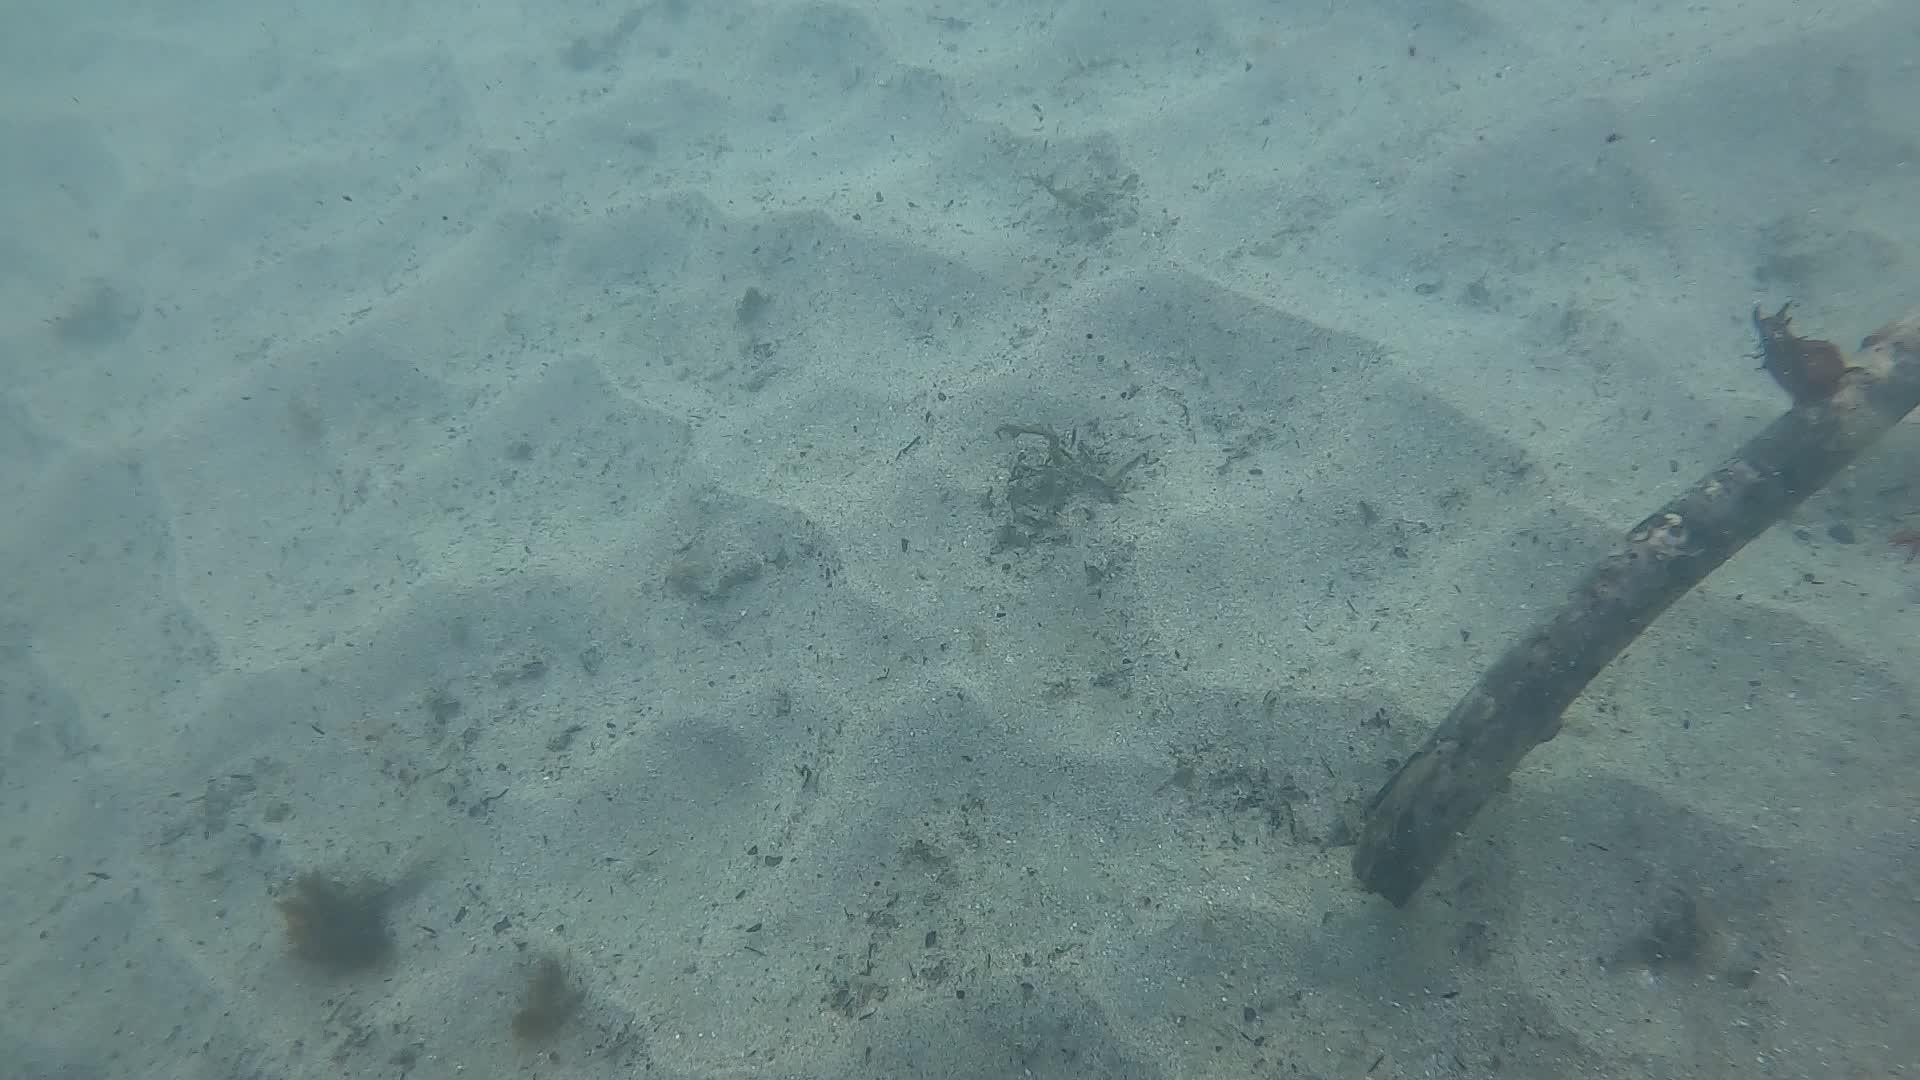wood: (1346, 295, 1920, 905)
